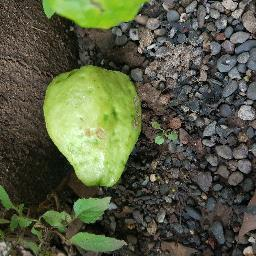Good_guava: (43, 61, 144, 194)
